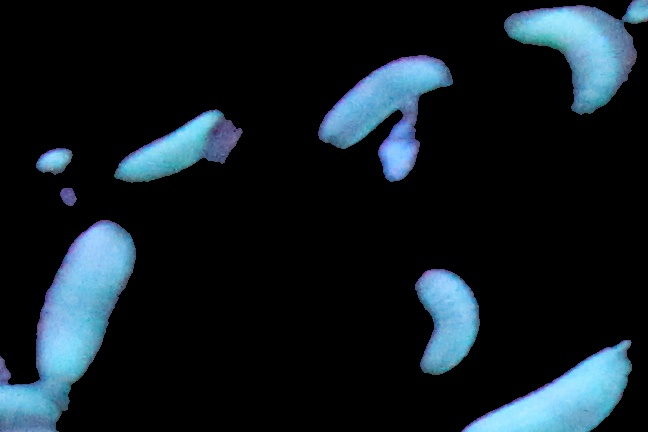larvae: (36, 222, 134, 373), (467, 343, 633, 432), (505, 7, 633, 120), (319, 55, 449, 145), (113, 109, 232, 175), (412, 267, 483, 374), (1, 383, 59, 420)
